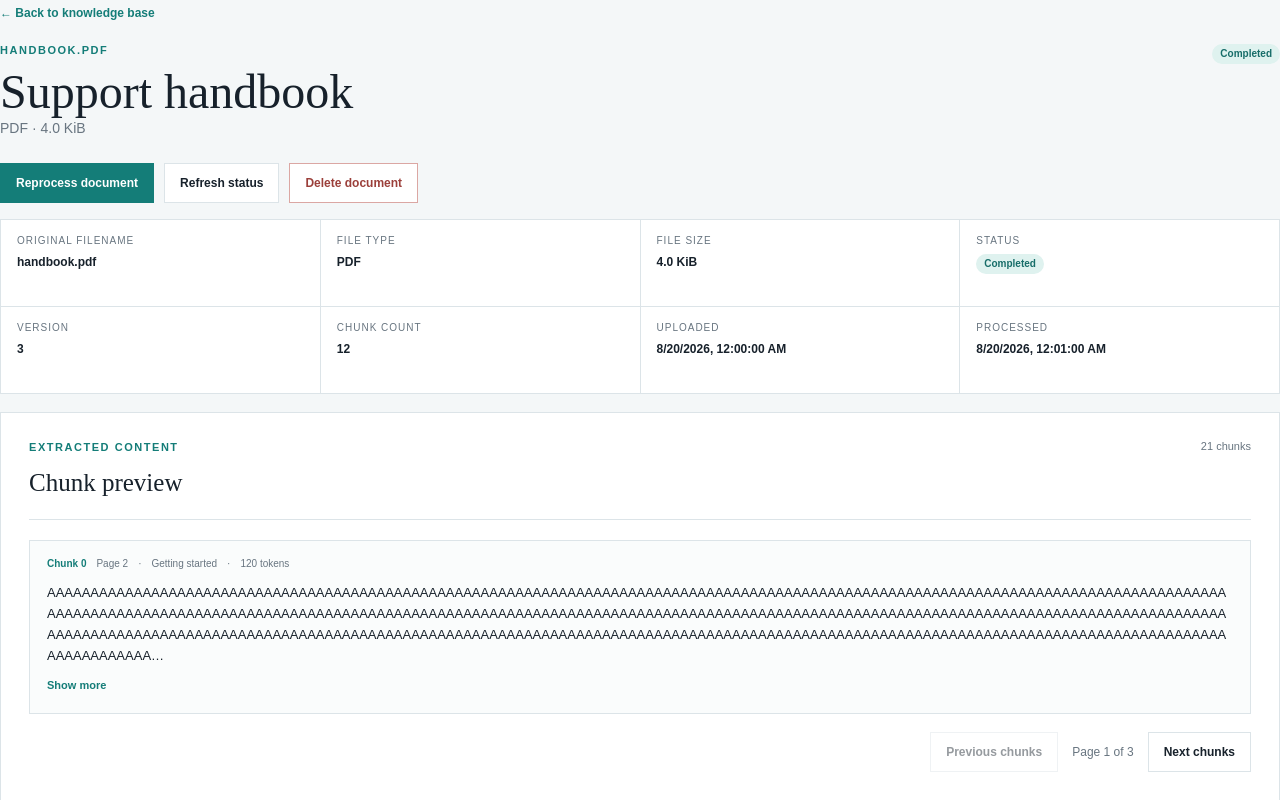
Test: DocumentDetail › shows a safe delete failure without redirecting
This screenshot has width=1280, height=800.
Click the button "Delete document" at point(354, 183), box [289,163,418,203]
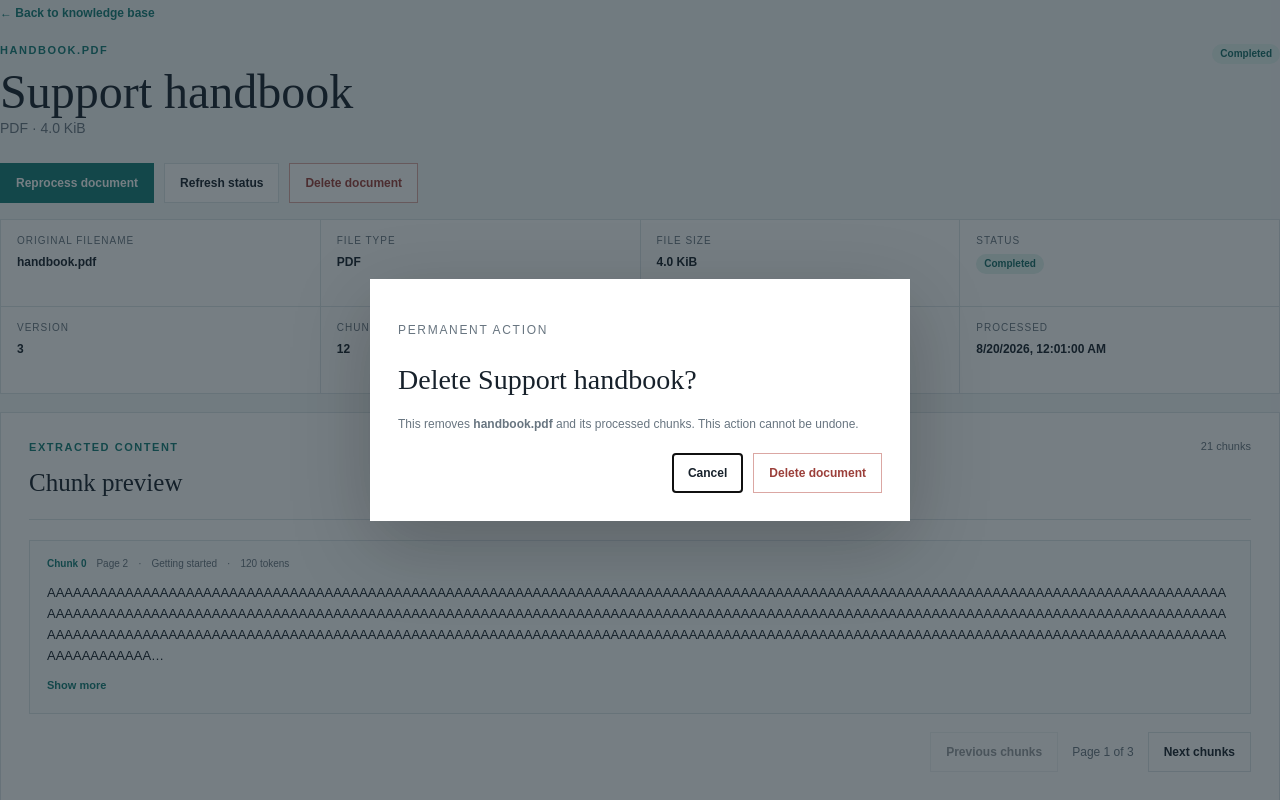
Click the button "Delete document" at point(818, 473), box [753,453,882,493]
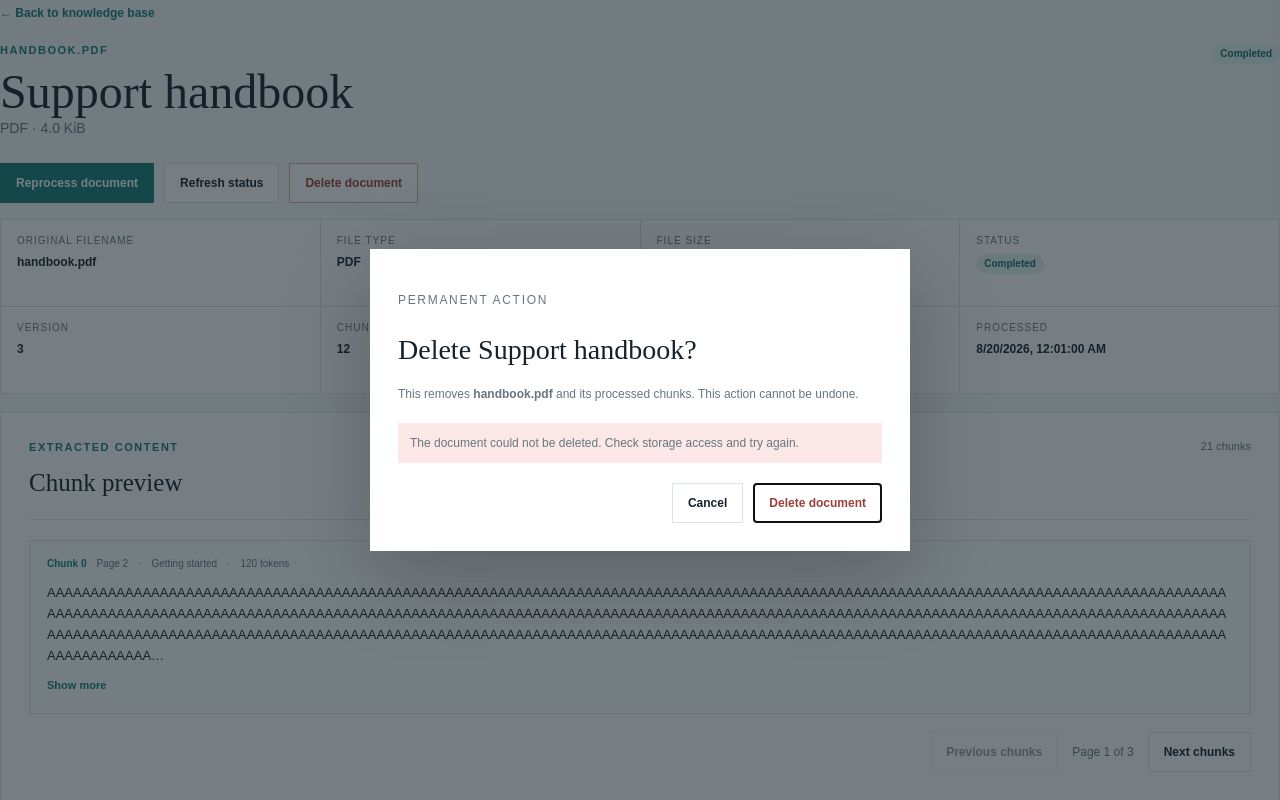
Expected: the message shows "could not be deleted", [410,436,799,450]
